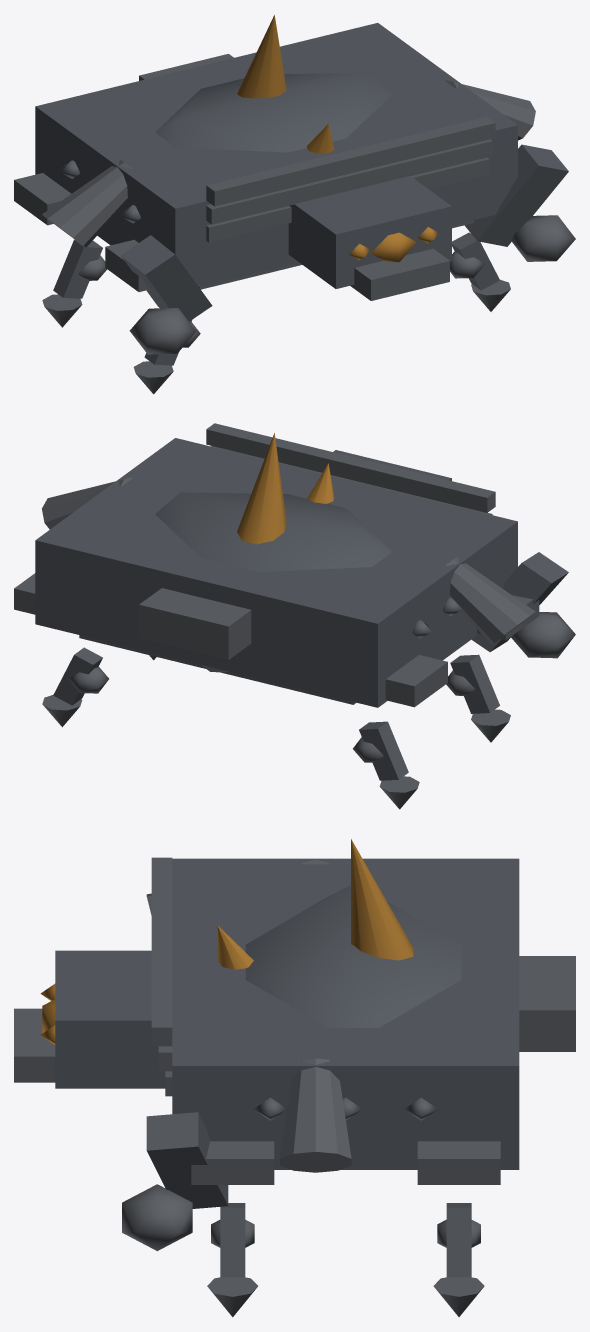
File: husk.glb
3 views of the same model, one above another, from view 1: azimuth 30°, elevation 25°; view 2: azimuth 150°, elevation 25°; view 3: azimuth 270°, elevation 25° (orthographic). The views are drawn at different scales.
Parts seen in each view (by area): view 1: body, core; view 2: body, core; view 3: body, core.
Boxes of the visible parts, x1,y1,x2,y2 form: body: (14, 23, 575, 394); core: (237, 15, 438, 262); body: (14, 423, 575, 809); core: (237, 433, 334, 544); body: (14, 857, 575, 1317); core: (40, 839, 413, 1044).
Bounding box in the file's own units: 0.78 × 0.47 × 0.6349.
